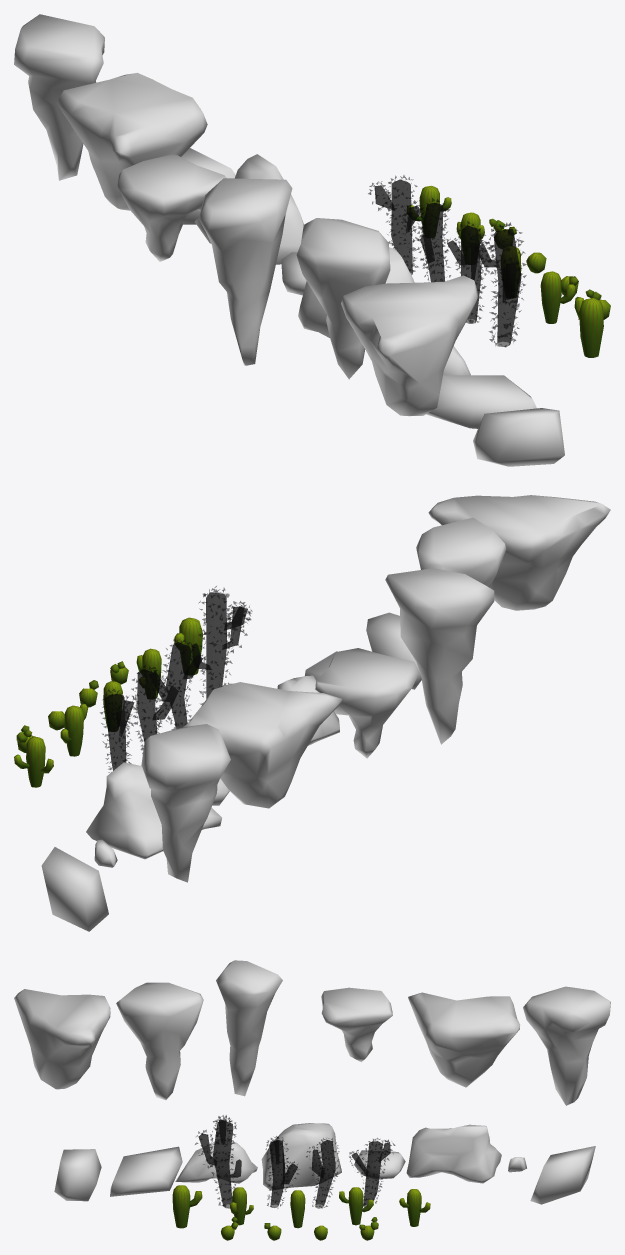
File: Rock&Cacti.glb
3 renders of one model, top to bottom at view 1: azimuth 30°, elevation 25°; view 2: azimuth 150°, elevation 25°; view 3: azimuth 270°, elevation 25°, orthographic. The views are drawn at different scales.
Parts seen in each view (by area): view 1: Rock.006, Rock.007, Rock.014, Rock.011, Rock.001, Rock.005, Rock.019, Rock.021, Sphere.016, Sphere.009, Rock.004, Sphere.020 (+8 smaller); view 2: Rock.007, Rock.006, Rock.014, Rock.011, Rock.005, Rock.004, Rock.001, Rock.018, Sphere.016, Sphere.015, Sphere.020, Sphere.009 (+7 smaller); view 3: Rock.007, Rock.006, Rock.011, Rock.001, Rock.014, Rock.004, Rock.003, Rock.005, Rock.021, Rock.018, Rock.002, Sphere.016 (+10 smaller).
Boxes of the visible parts, box(x1,y1,x2,y2) form: Rock.006: box(341, 275, 478, 416); Rock.007: box(56, 72, 207, 210); Rock.014: box(198, 178, 292, 365); Rock.011: box(14, 14, 104, 180); Rock.001: box(296, 218, 390, 379); Rock.005: box(117, 154, 226, 261); Rock.019: box(473, 408, 564, 466); Rock.021: box(426, 375, 536, 428); Sphere.016: box(472, 222, 526, 347); Sphere.009: box(368, 175, 424, 274); Rock.004: box(194, 154, 303, 264); Sphere.020: box(416, 198, 450, 282); Rock.007: box(183, 682, 342, 808); Rock.006: box(428, 495, 610, 610); Rock.014: box(385, 568, 494, 744); Rock.011: box(141, 724, 230, 882); Rock.005: box(315, 648, 419, 758); Rock.004: box(86, 762, 221, 859); Rock.001: box(416, 517, 506, 587); Rock.018: box(41, 847, 108, 931); Sphere.016: box(191, 586, 252, 704); Sphere.015: box(149, 638, 205, 729); Sphere.020: box(131, 665, 181, 753); Sphere.009: box(100, 689, 138, 772); Rock.007: box(408, 992, 520, 1087); Rock.006: box(14, 989, 110, 1089); Rock.011: box(523, 986, 610, 1105); Rock.001: box(116, 982, 203, 1100); Rock.014: box(216, 960, 282, 1096); Rock.004: box(406, 1124, 501, 1183); Rock.003: box(261, 1123, 341, 1190); Rock.005: box(321, 987, 392, 1062); Rock.021: box(110, 1146, 182, 1196); Rock.018: box(530, 1146, 595, 1204); Rock.002: box(175, 1139, 257, 1183); Sphere.016: box(195, 1115, 241, 1208).
Bounding box in the file's own units: 28.65 × 15.55 × 51.29.
6 materials, 3 textured.
